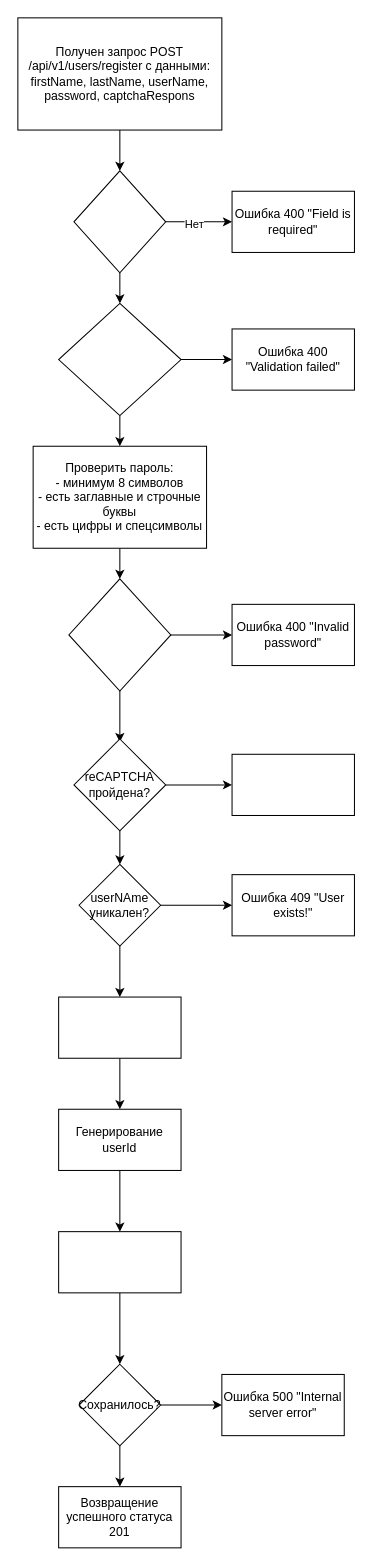
The diagram is 372 pixels wide and 1566 high, and some of its shapes have lost their labels. The box of each missing label's shape, as (x1, y1, x2, y2) in pixels:
Все поля заполнены?: (73, 170, 166, 273)
Ошибка 400 "Please verify reCAPTCHA": (231, 753, 354, 815)
Пароль достаточно сложный?: (68, 578, 171, 691)
Правильная длина и формат полей?: (58, 302, 181, 416)
Сохранение пользователя в базу данных: (58, 1231, 181, 1293)
Шифрование пароля: (58, 996, 181, 1058)
